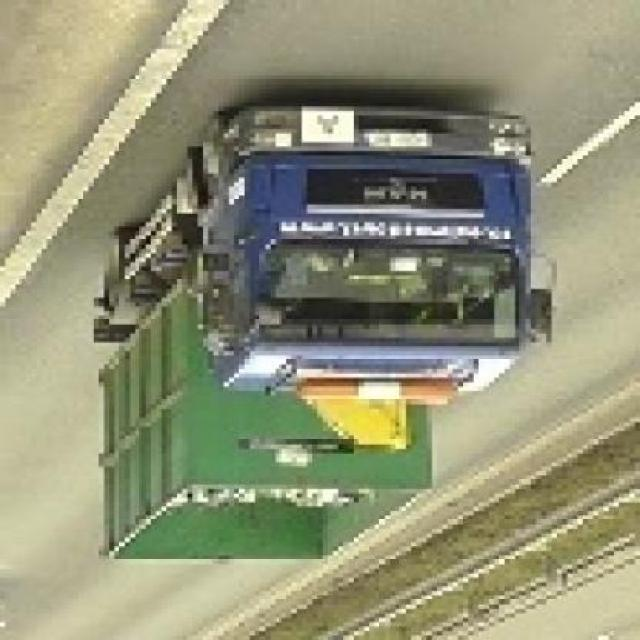truck: (94, 103, 563, 574)
